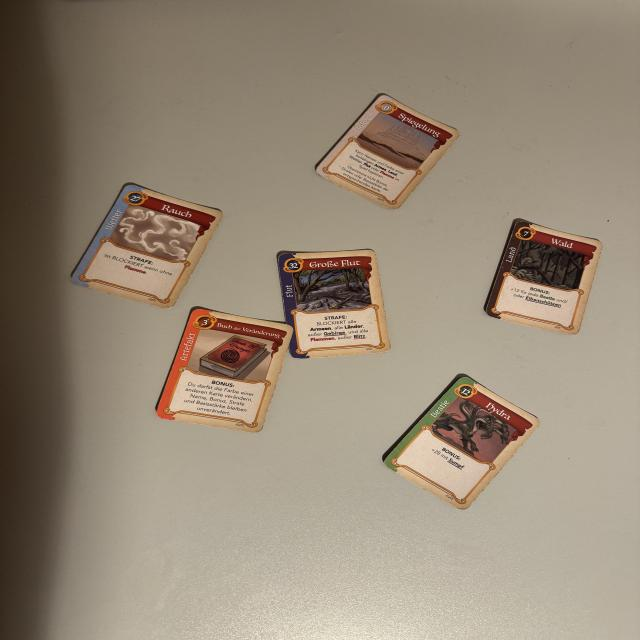Book Of Changes: (151, 305, 294, 434)
Forest: (479, 217, 604, 339)
Great Flood: (275, 248, 396, 363)
Hydra: (379, 375, 546, 512)
Mirage: (312, 92, 462, 215)
Smoke: (63, 183, 225, 311)
